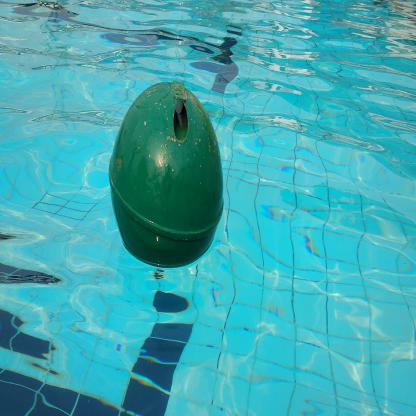green_buoy: (103, 75, 227, 276)
